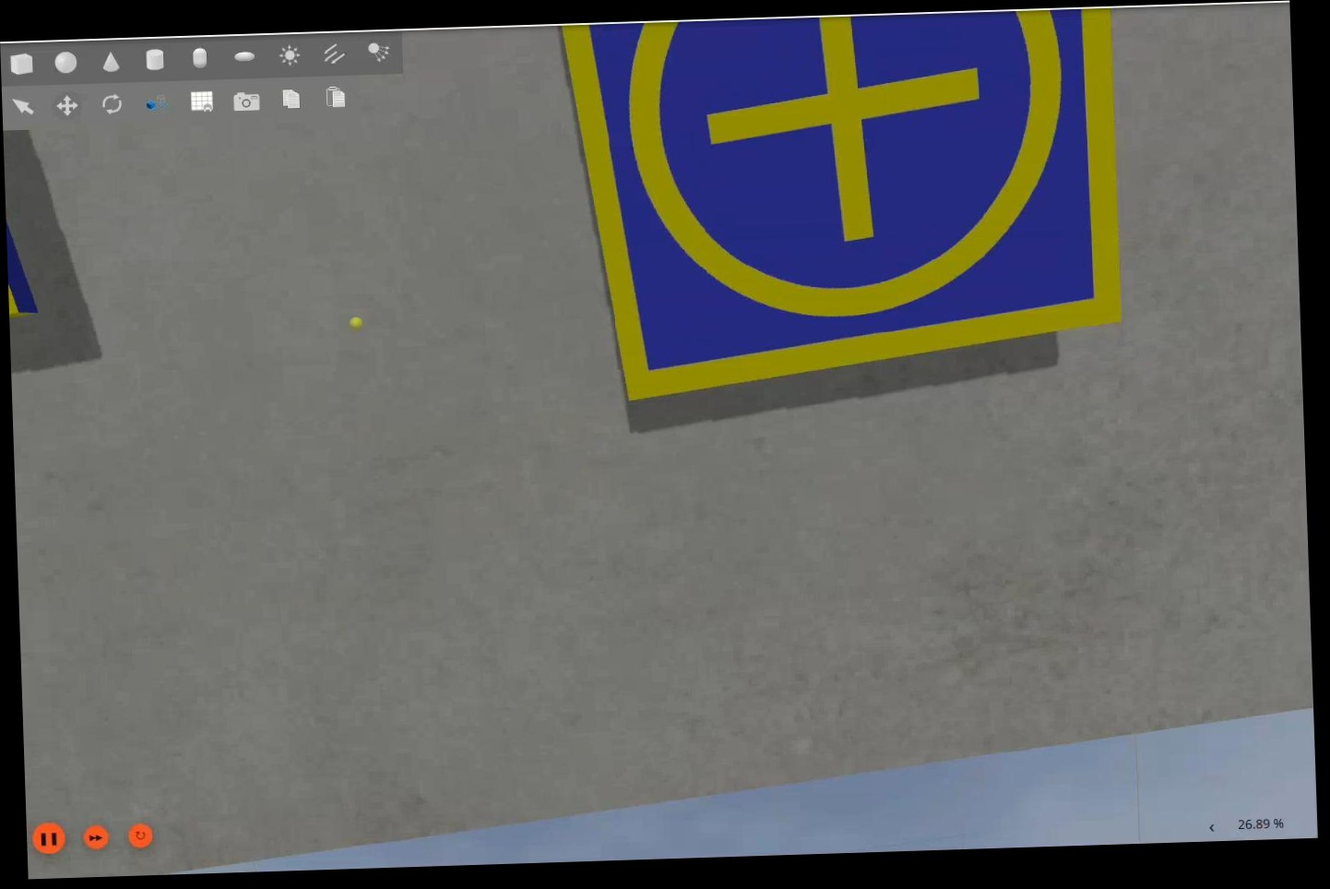small_base: (559, 6, 1127, 409)
